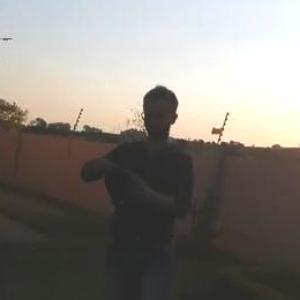follow: (71, 73, 202, 299)
